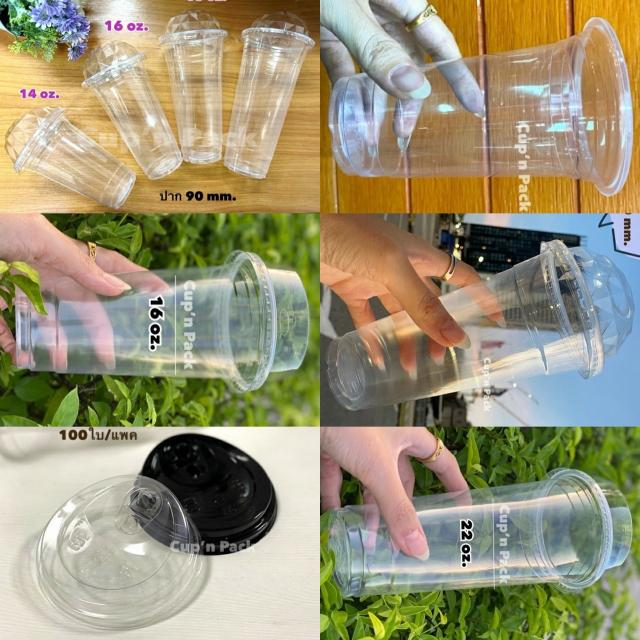Single-Use-Plastic: (329, 18, 633, 194), (327, 240, 634, 410), (16, 251, 309, 391), (328, 469, 630, 598), (36, 475, 203, 628), (141, 434, 276, 555), (224, 11, 314, 179), (83, 41, 183, 179), (5, 108, 136, 209), (159, 10, 228, 164)
